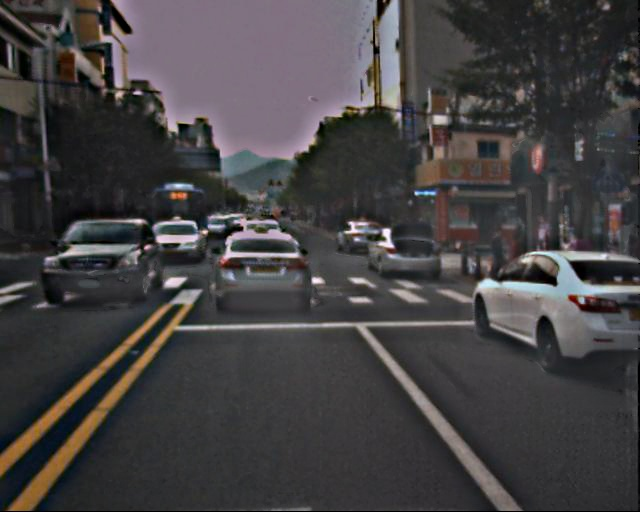person: (506, 233, 530, 292), (488, 224, 510, 285)
